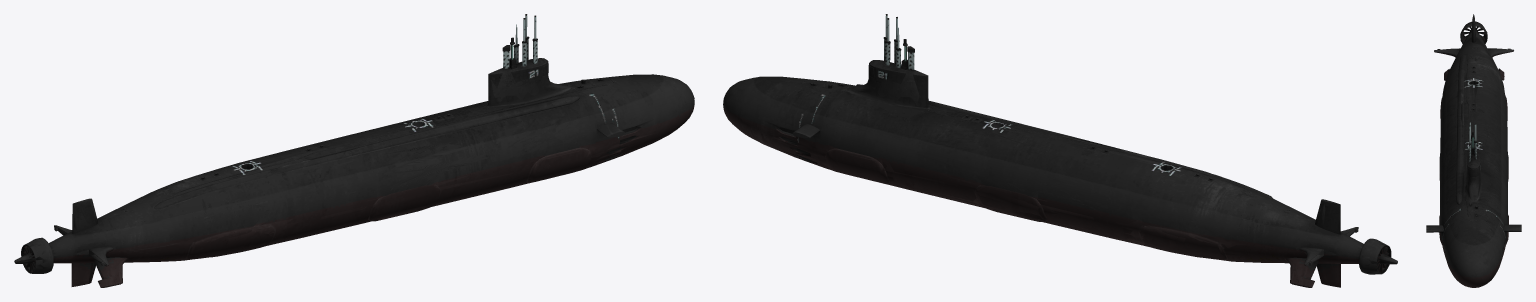
The picture shows the model from 3 angles, left to right: view 1: azimuth 30°, elevation 25°; view 2: azimuth 150°, elevation 25°; view 3: azimuth 270°, elevation 25°; orthographic projection. The views are drawn at different scales.
Visible parts, largest first — view 1: USS_Seawolf_0, USS_Seawolf #105948_1; view 2: USS_Seawolf_0, USS_Seawolf #105948_1; view 3: USS_Seawolf_0, USS_Seawolf #105948_1.
Boxes of the visible parts, <box> form: USS_Seawolf_0: <box>14,14,694,287</box>; USS_Seawolf #105948_1: <box>15,58,694,287</box>; USS_Seawolf_0: <box>723,14,1397,287</box>; USS_Seawolf #105948_1: <box>723,60,1397,287</box>; USS_Seawolf_0: <box>1426,14,1521,287</box>; USS_Seawolf #105948_1: <box>1426,18,1521,287</box>.
Bounding box in the file's own units: 15.39 × 3.55 × 2.49.
2 materials, 2 textured.
